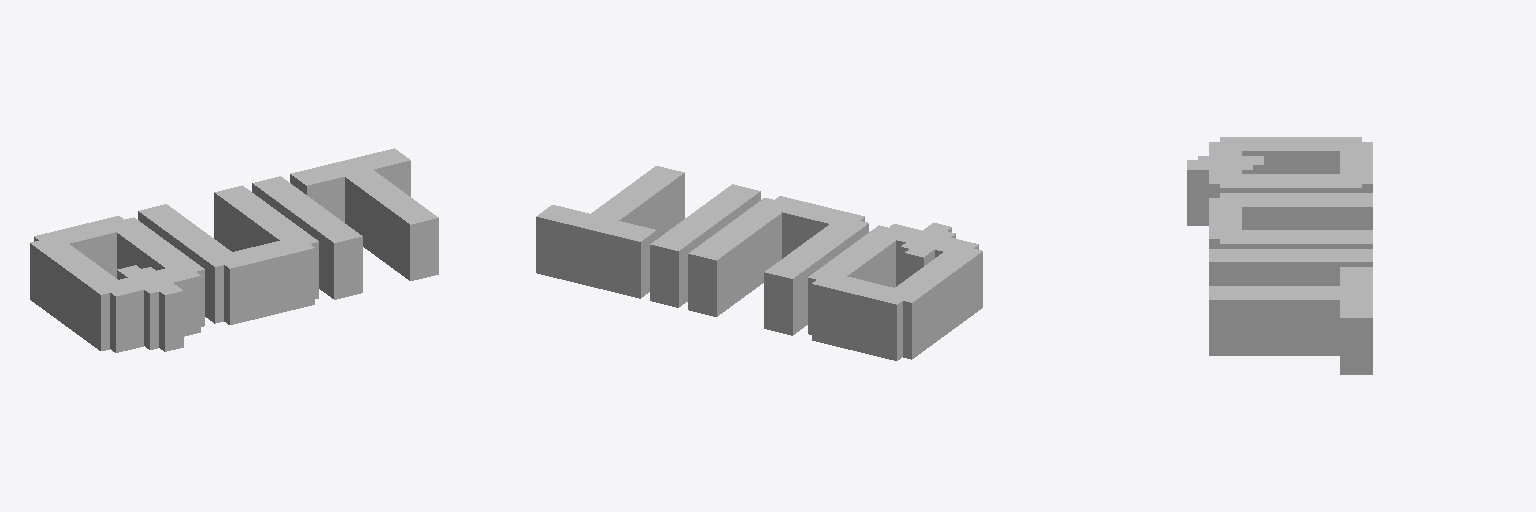
Rendered from quit.obj.
3 views of the same model, side by side, from view 1: azimuth 30°, elevation 25°; view 2: azimuth 150°, elevation 25°; view 3: azimuth 270°, elevation 25° (orthographic).
Parts seen in each view (by area): view 1: Text; view 2: Text; view 3: Text.
Boxes of the visible parts, box(x1,y1,x2,y2) form: Text: box(30, 148, 438, 352); Text: box(536, 166, 982, 360); Text: box(1187, 137, 1372, 374).
Size of the model in its own units: 2.05 by 0.3 by 0.8947.